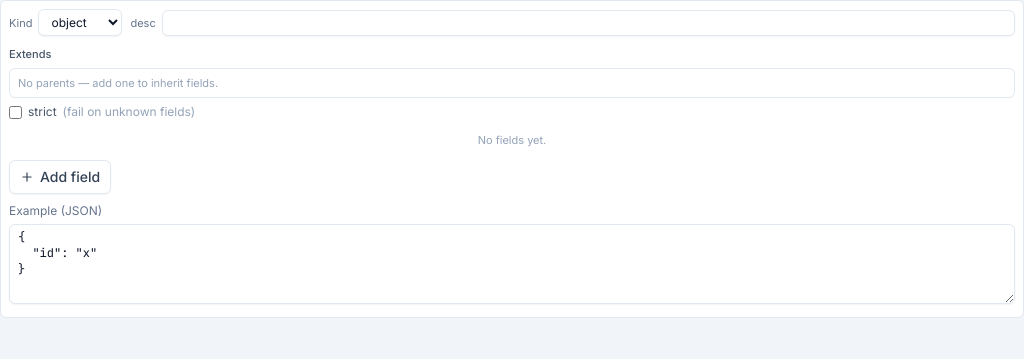
Test: invalid JSON shows error and does not change example
Replace the text in the text box labelled "Example (JSON)" with "not json" at (512, 264), box x1=9 y1=224 x2=1015 y2=304
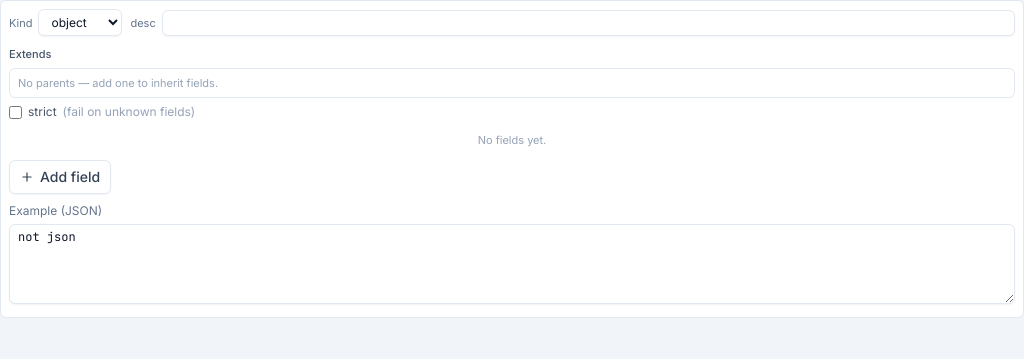
Leave the text box labelled "Example (JSON)", box x1=9 y1=224 x2=1015 y2=304
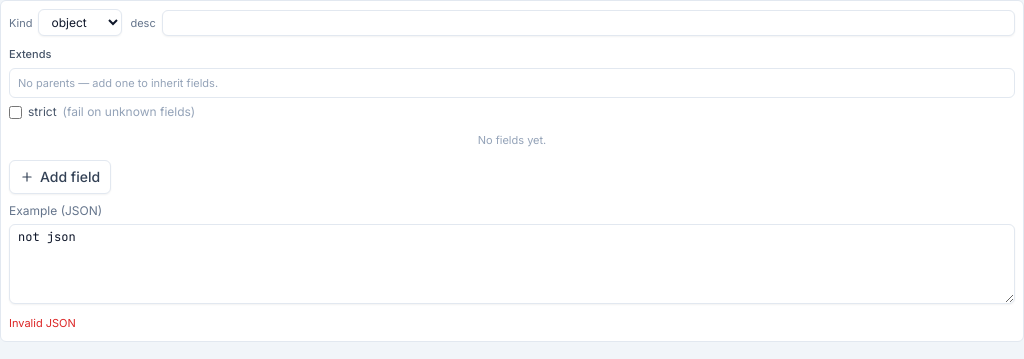
Expected: the message reads "Invalid JSON", x1=9 y1=316 x2=76 y2=330
